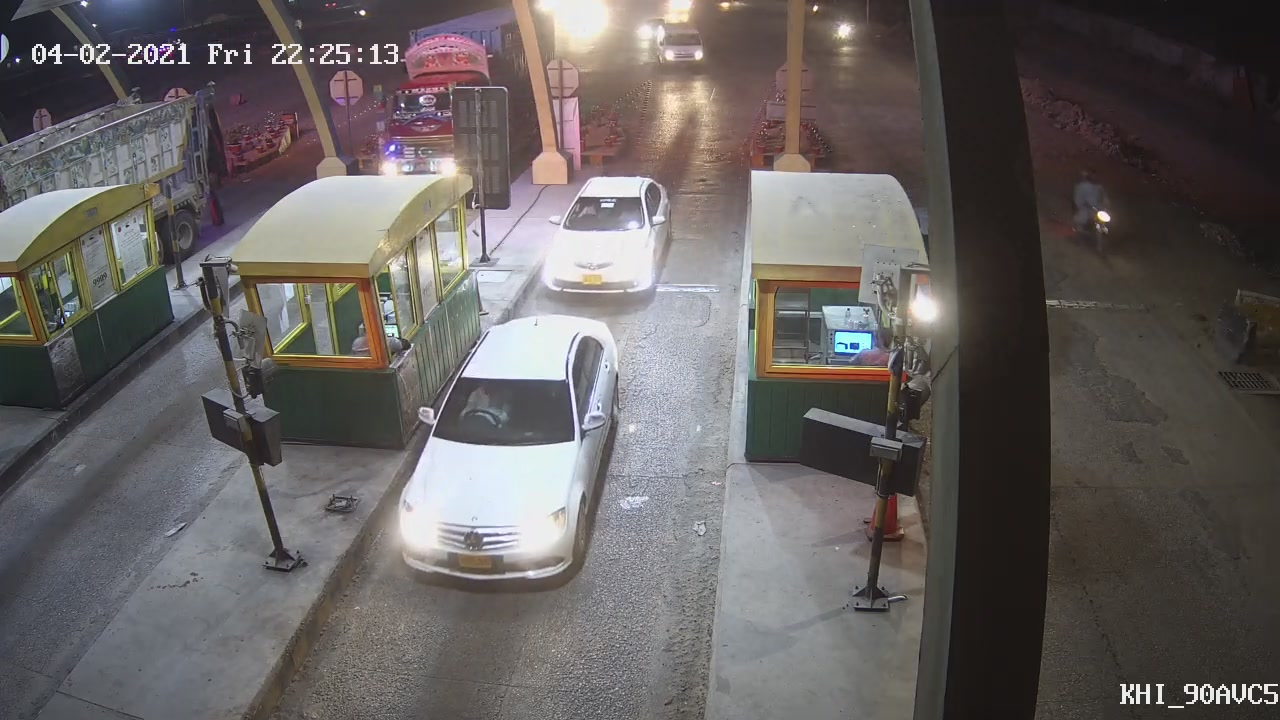F1: (395, 307, 622, 589), (539, 172, 676, 299)
